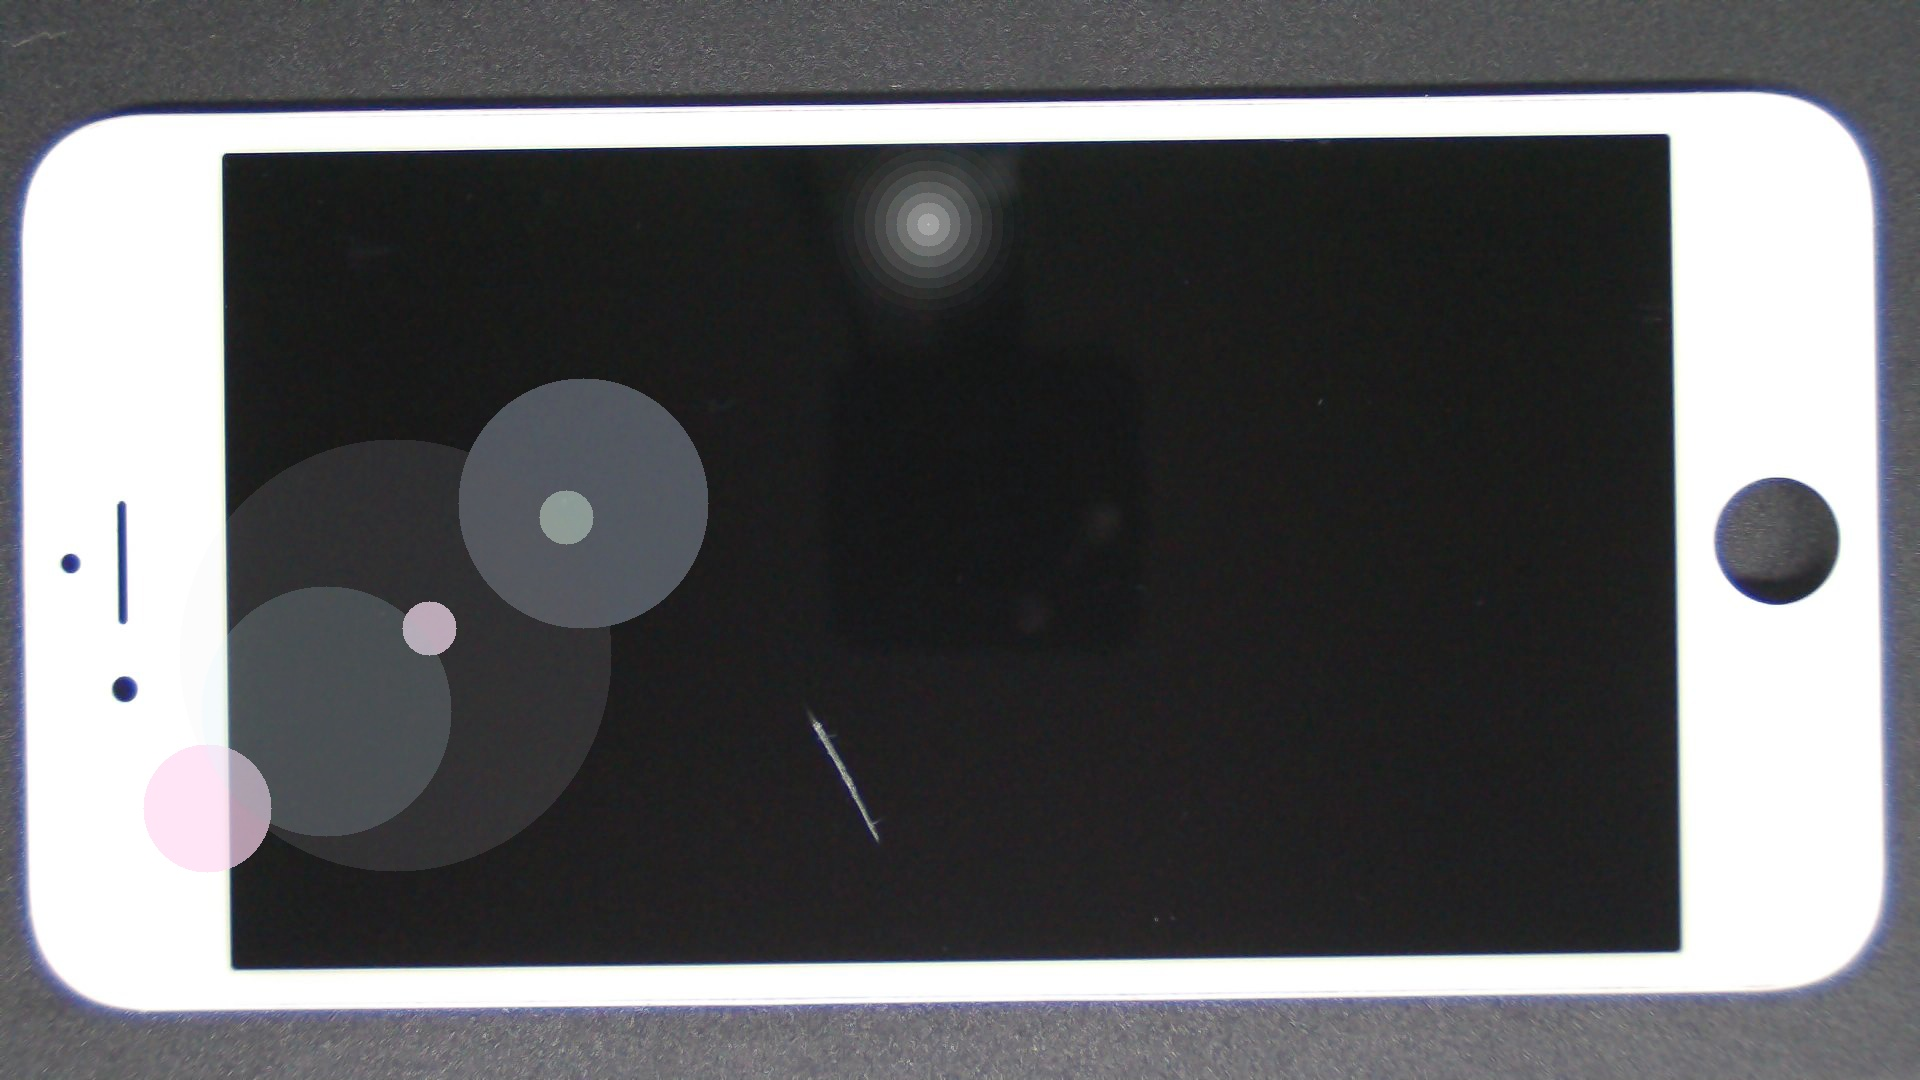oil: (402, 349, 1208, 1064)
